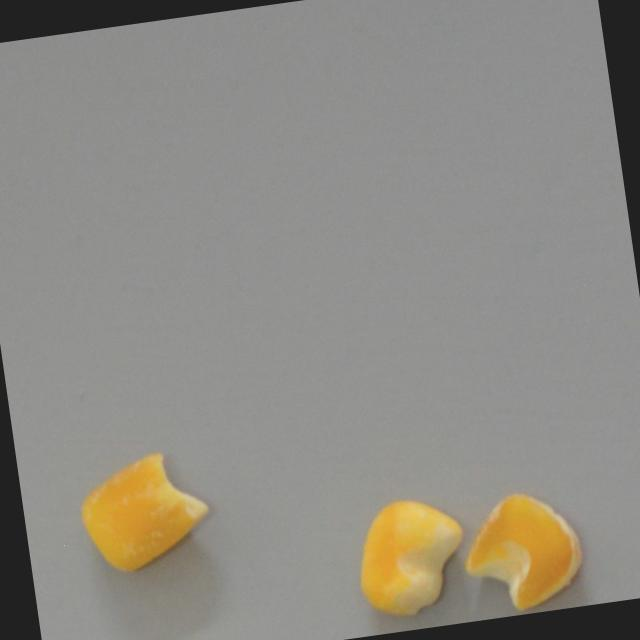no_canjicado: (350, 493, 472, 624)
pelicula: (455, 483, 587, 619), (77, 460, 203, 565)
